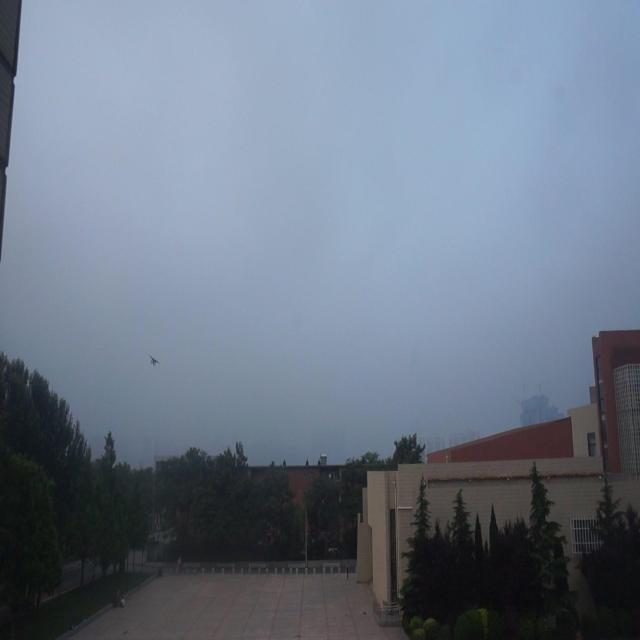drone: (145, 350, 161, 369)
